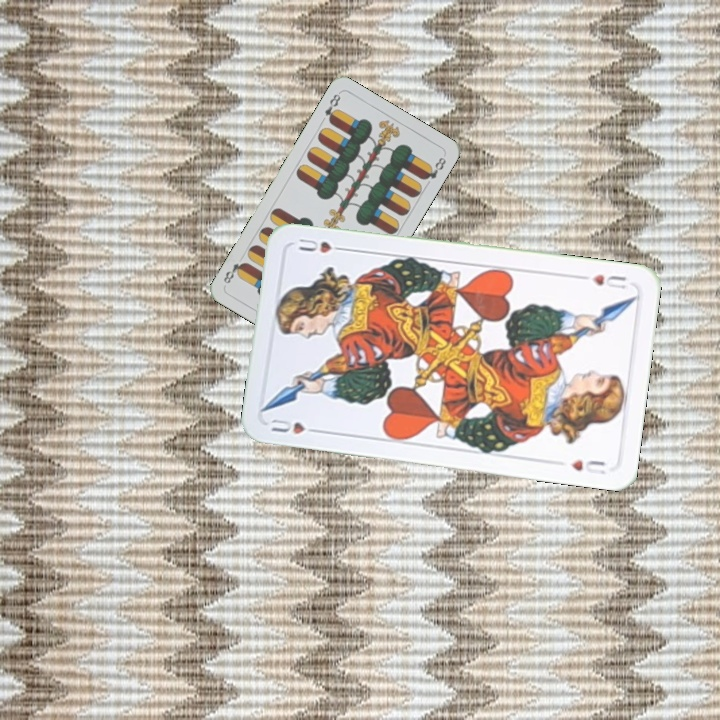E8: (321, 90, 343, 126)
HU: (266, 414, 324, 437), (587, 270, 630, 292)
